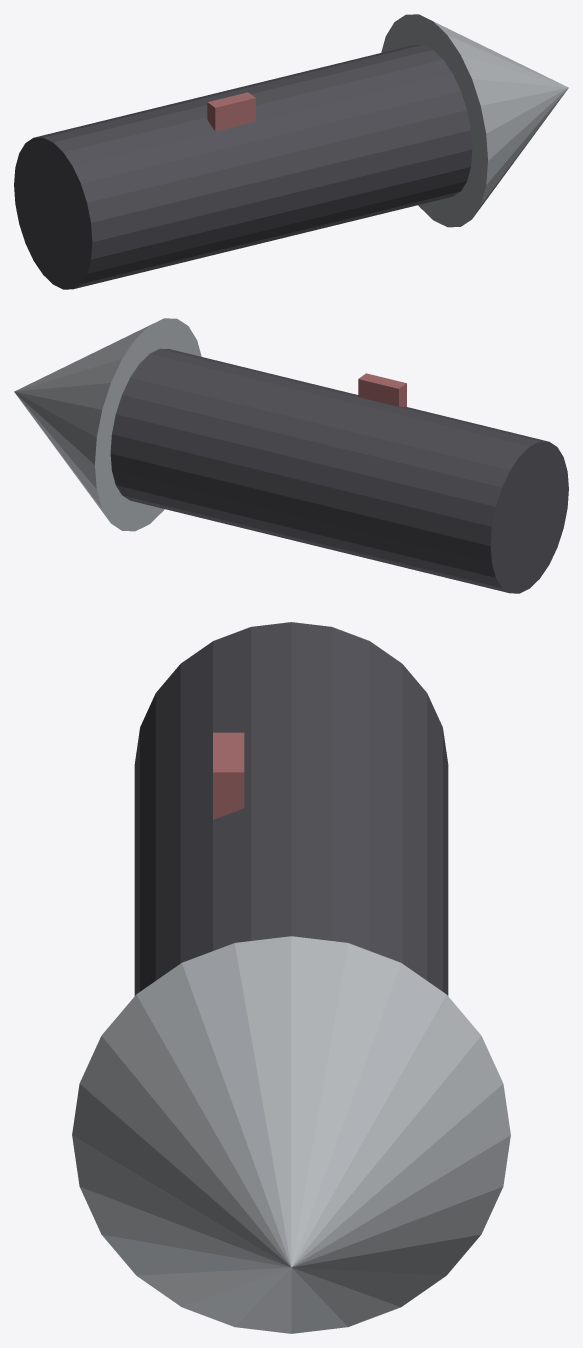
The model's file is flashlight.glb.
3 renders of one model, top to bottom at view 1: azimuth 30°, elevation 25°; view 2: azimuth 150°, elevation 25°; view 3: azimuth 270°, elevation 25°, orthographic. The views are drawn at different scales.
Parts seen in each view (by area): view 1: world; view 2: world; view 3: world.
Boxes of the visible parts, box(x1,y1,x2,y2) form: world: box(14, 14, 568, 289); world: box(14, 318, 568, 593); world: box(72, 622, 510, 1333).
Size of the model in its own units: 0.38 by 0.14 by 0.14.
